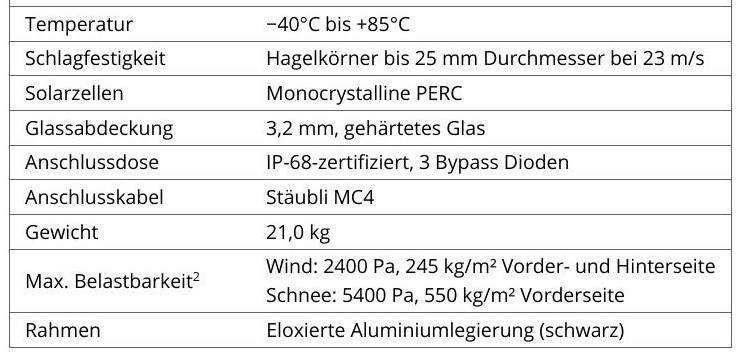table: (1, 2, 743, 354)
table column: (254, 7, 724, 352), (20, 7, 244, 349)
table row: (12, 251, 729, 310), (13, 216, 729, 247), (12, 78, 729, 108), (12, 113, 729, 143), (12, 315, 730, 344), (12, 148, 729, 177), (13, 183, 730, 212), (12, 45, 729, 73), (13, 10, 728, 38)
